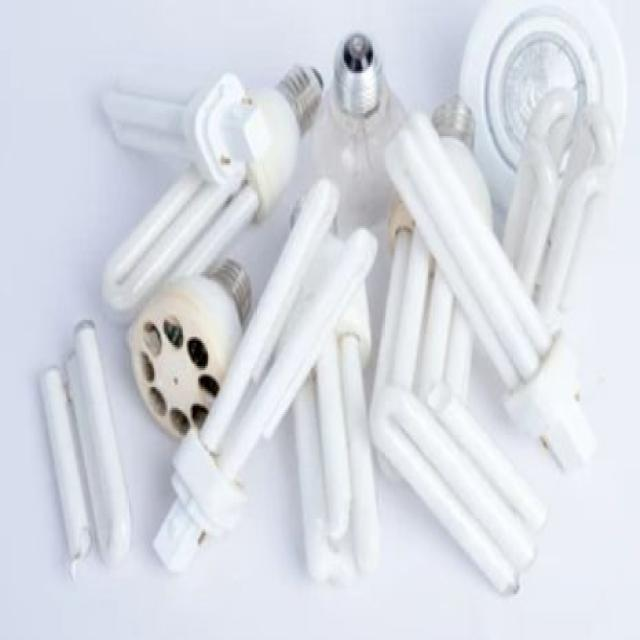electronic: (96, 2, 624, 594), (99, 59, 324, 320), (457, 0, 627, 215), (125, 257, 252, 439)
